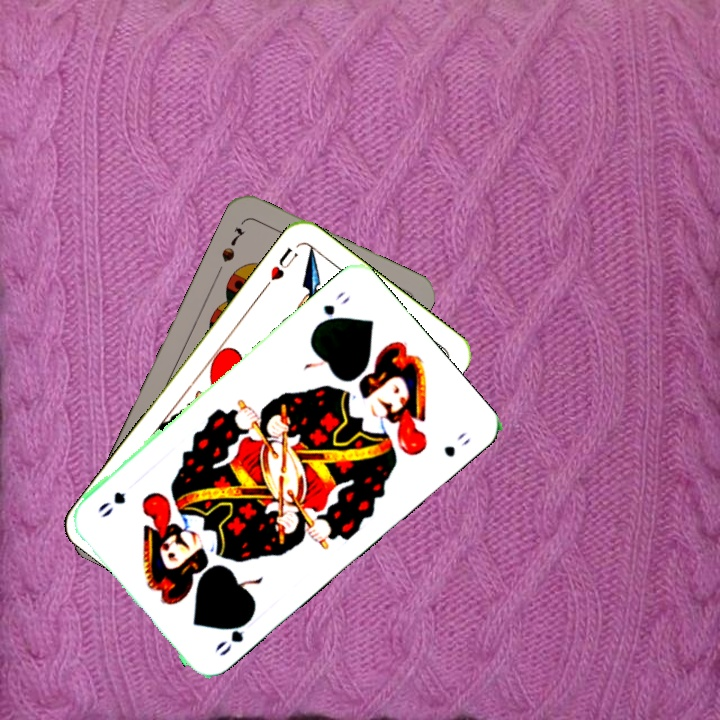GO: (210, 613, 254, 659), (311, 287, 353, 331)
HU: (260, 243, 301, 292)
S7: (217, 223, 248, 265)
